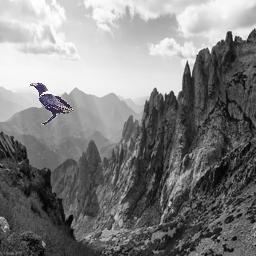Crow: (29, 82, 75, 125)
